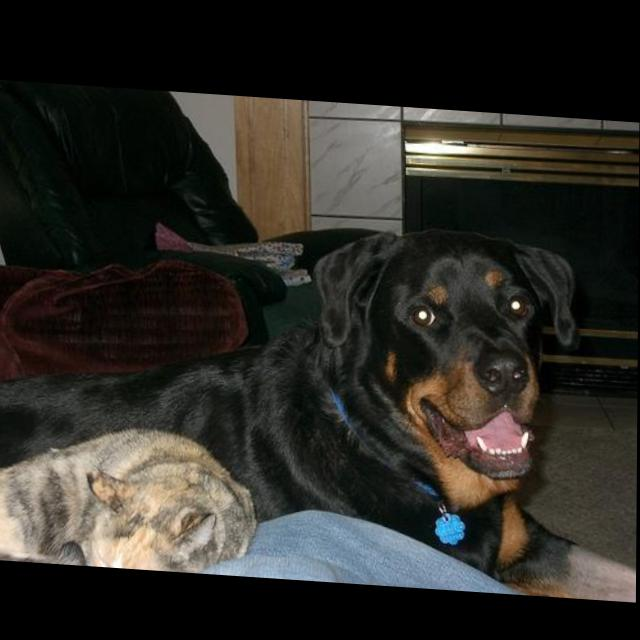rottweiler: (1, 199, 640, 593)
